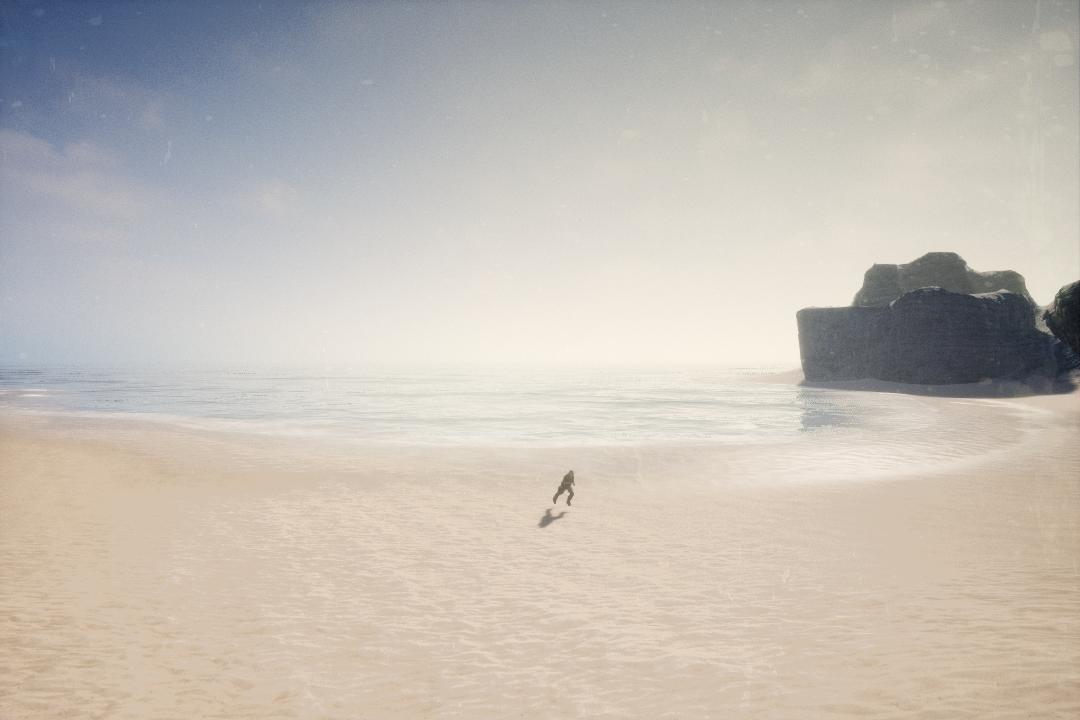person: (552, 467, 580, 509)
